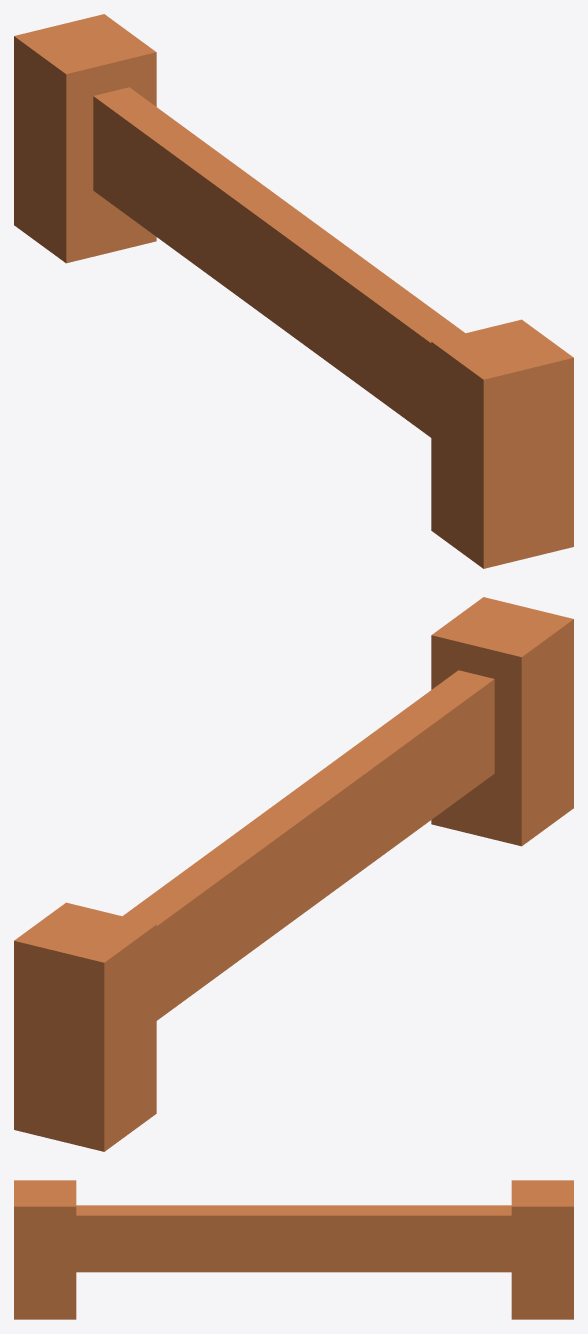
File: fenceLow.fbx
3 views of the same model, one above another, from view 1: azimuth 30°, elevation 25°; view 2: azimuth 150°, elevation 25°; view 3: azimuth 270°, elevation 25° (orthographic). The views are drawn at different scales.
Parts seen in each view (by area): view 1: fenceLow; view 2: fenceLow; view 3: fenceLow.
Boxes of the visible parts, box(x1,y1,x2,y2) form: fenceLow: box(14, 14, 573, 568); fenceLow: box(14, 597, 573, 1151); fenceLow: box(14, 1180, 573, 1319).
Bounding box in the file's own units: 1 × 2 × 9.
